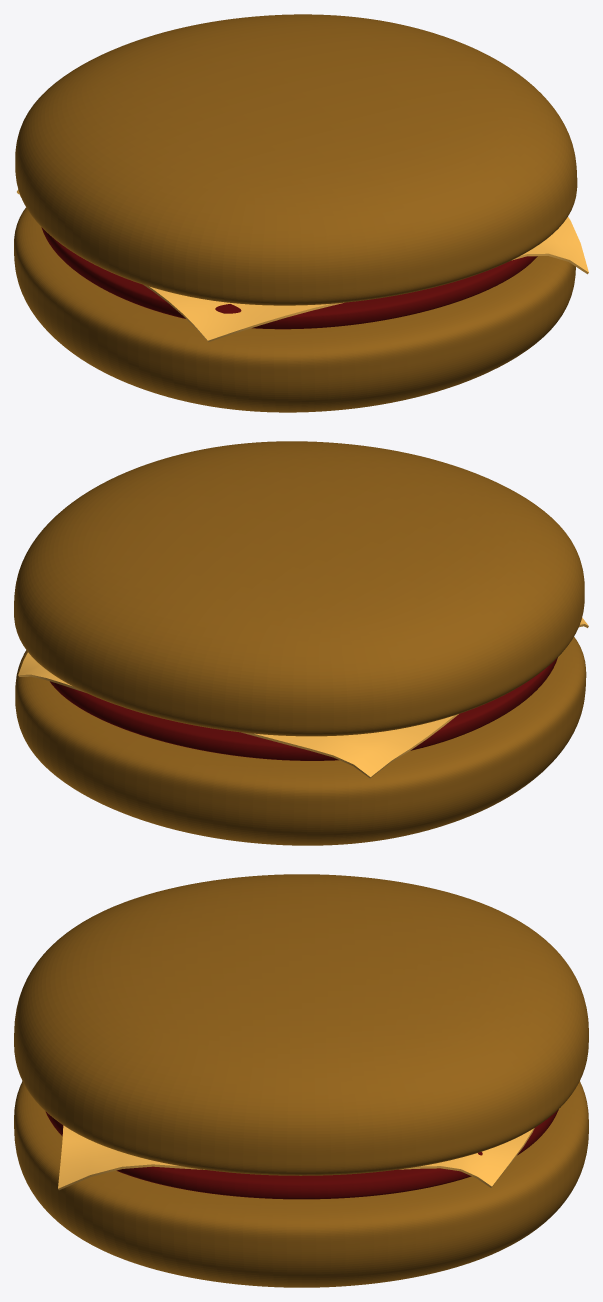
Rendered from burger1.glb.
3 views of the same model, one above another, from view 1: azimuth 30°, elevation 25°; view 2: azimuth 150°, elevation 25°; view 3: azimuth 270°, elevation 25° (orthographic). The views are drawn at different scales.
Parts seen in each view (by area): view 1: Cube.002, Cube, Cube.001, Plane; view 2: Cube.002, Cube, Cube.001, Plane; view 3: Cube.002, Cube, Cube.001, Plane.
Boxes of the visible parts, left/top/right/bottom form: Cube.002: left=15, top=14, right=577, bottom=305; Cube: left=14, top=207, right=575, bottom=412; Cube.001: left=41, top=227, right=537, bottom=329; Plane: left=17, top=189, right=588, bottom=341; Cube.002: left=14, top=441, right=584, bottom=736; Cube: left=15, top=637, right=586, bottom=845; Cube.001: left=50, top=657, right=557, bottom=760; Plane: left=18, top=617, right=588, bottom=778; Cube.002: left=14, top=874, right=588, bottom=1175; Cube: left=14, top=1081, right=588, bottom=1287; Cube.001: left=45, top=1109, right=558, bottom=1199; Plane: left=58, top=1125, right=534, bottom=1190.
Bounding box in the file's own units: 11.21 × 5.65 × 11.18.
